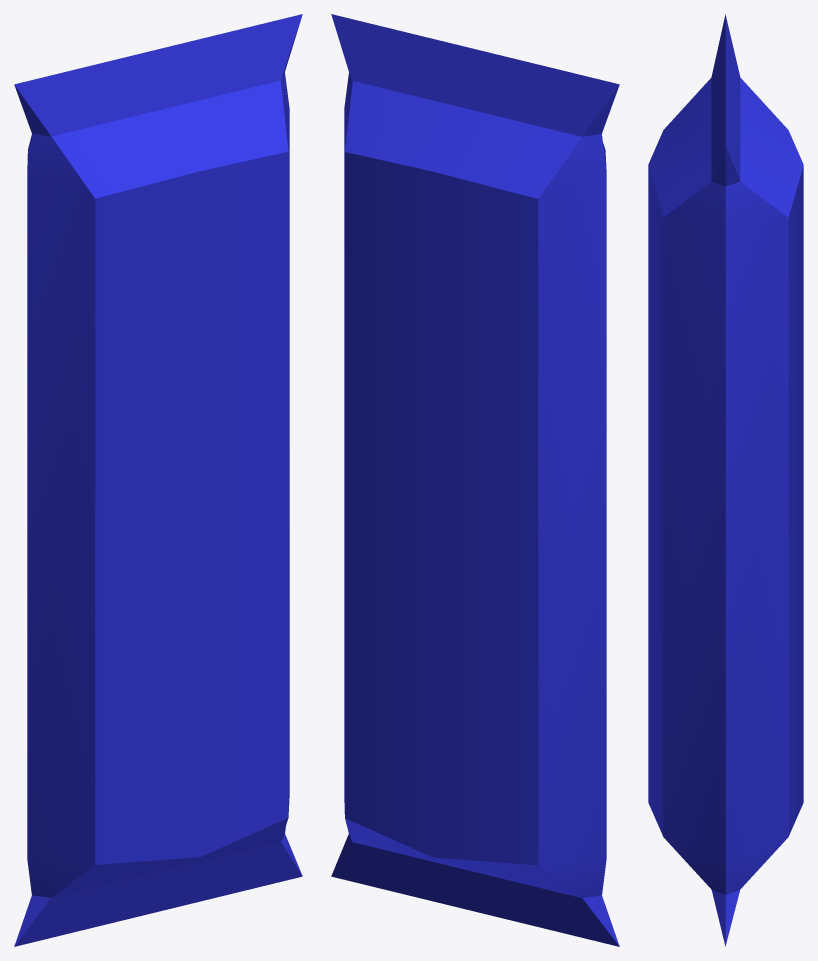
The model's file is chocolatebar.fbx.
3 views of the same model, side by side, from view 1: azimuth 30°, elevation 25°; view 2: azimuth 150°, elevation 25°; view 3: azimuth 270°, elevation 25° (orthographic). The views are drawn at different scales.
Parts seen in each view (by area): view 1: chocolate; view 2: chocolate; view 3: chocolate.
Part boxes in pixels (bbox=[...]): chocolate: bbox=[14, 14, 302, 946]; chocolate: bbox=[331, 14, 619, 946]; chocolate: bbox=[648, 14, 803, 946].
Bounding box in the file's own units: 4.23 × 12.07 × 2.12.
